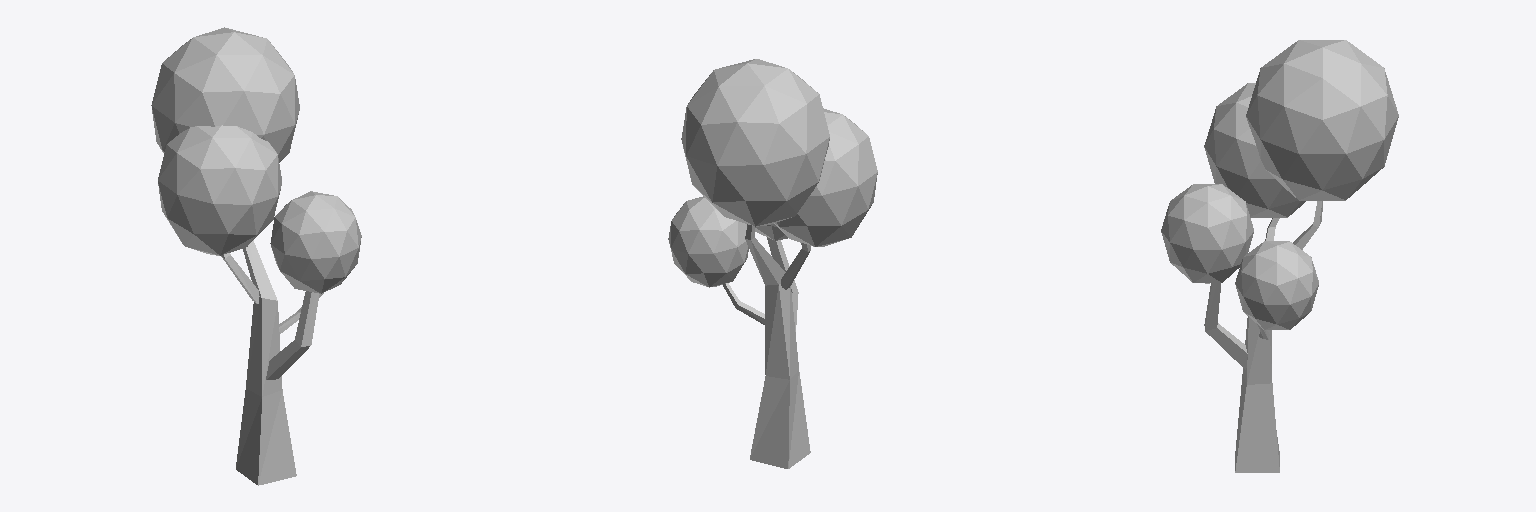
Rendered from BU_trees_published_002.obj.
3 renders of one model, left to right at view 1: azimuth 30°, elevation 25°; view 2: azimuth 150°, elevation 25°; view 3: azimuth 270°, elevation 25°, orthographic.
Parts seen in each view (by area): view 1: Tree_002_GEO; view 2: Tree_002_GEO; view 3: Tree_002_GEO.
Part boxes in pixels (bbox=[...]): Tree_002_GEO: bbox=[151, 27, 361, 485]; Tree_002_GEO: bbox=[668, 59, 877, 468]; Tree_002_GEO: bbox=[1161, 40, 1398, 472].
Size of the model in its own units: 1.91 by 4.03 by 2.09.